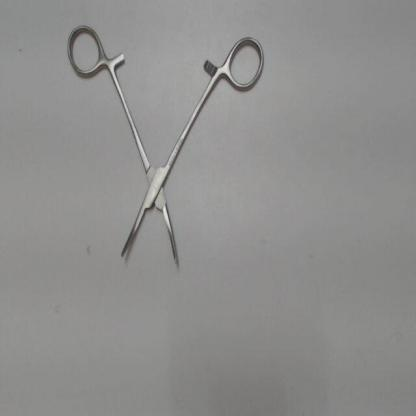Crile Artery Forceps: (51, 19, 269, 282)
